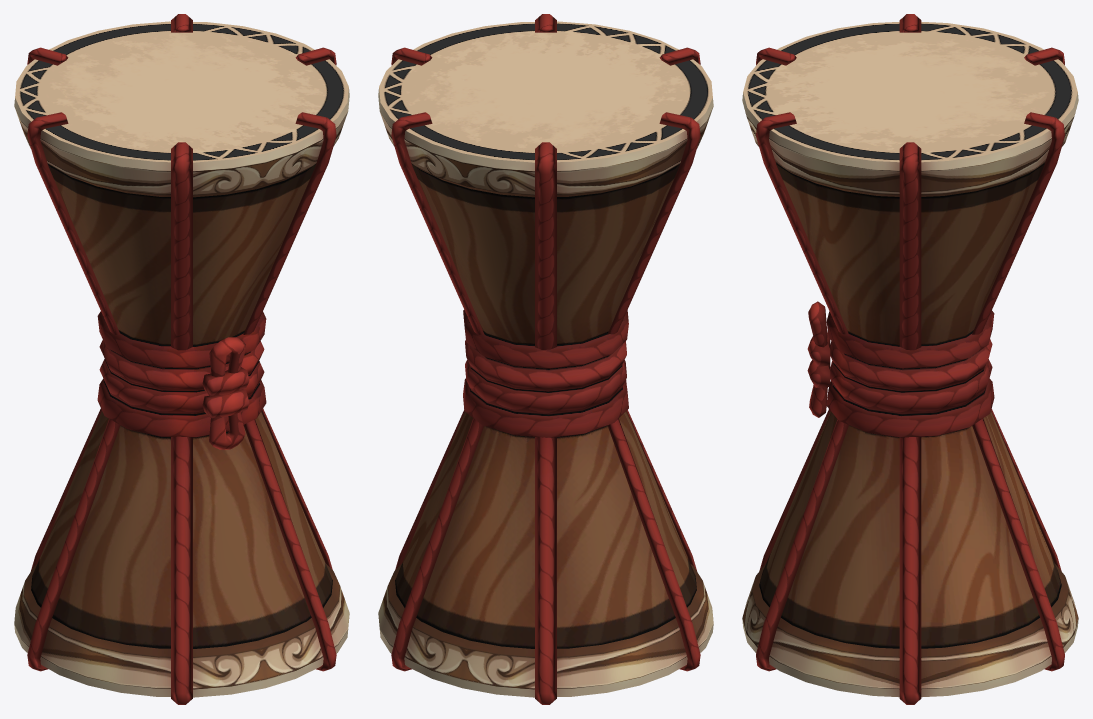
Rendered from Festive Drum.glb.
The picture shows the model from 3 angles, left to right: view 1: azimuth 30°, elevation 25°; view 2: azimuth 150°, elevation 25°; view 3: azimuth 270°, elevation 25°; orthographic projection.
Parts seen in each view (by area): view 1: AvatarObj_Widget_Kotsuzumi_01_Model; view 2: AvatarObj_Widget_Kotsuzumi_01_Model; view 3: AvatarObj_Widget_Kotsuzumi_01_Model.
Part boxes in pixels (left/top/right/bottom): AvatarObj_Widget_Kotsuzumi_01_Model: left=14, top=14, right=349, bottom=704; AvatarObj_Widget_Kotsuzumi_01_Model: left=378, top=14, right=713, bottom=704; AvatarObj_Widget_Kotsuzumi_01_Model: left=742, top=14, right=1078, bottom=704.
Size of the model in its own units: 0.1491 by 0.257 by 0.1422.
1 material, 1 textured.
